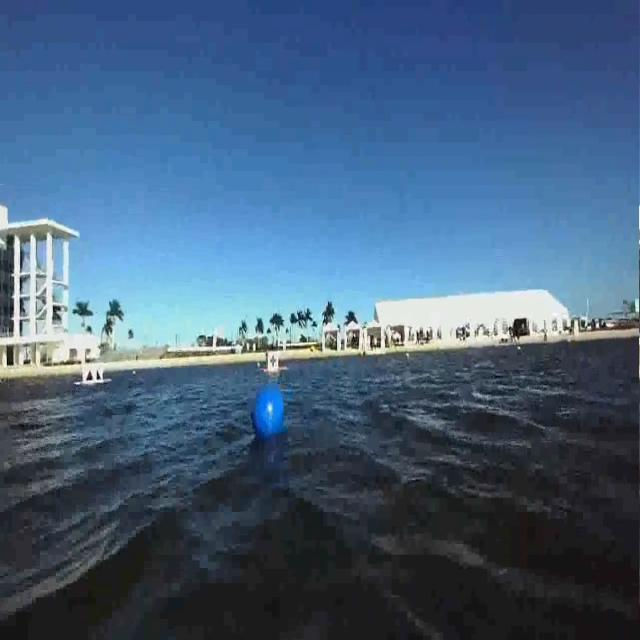blue-buoy: (254, 384, 289, 446)
